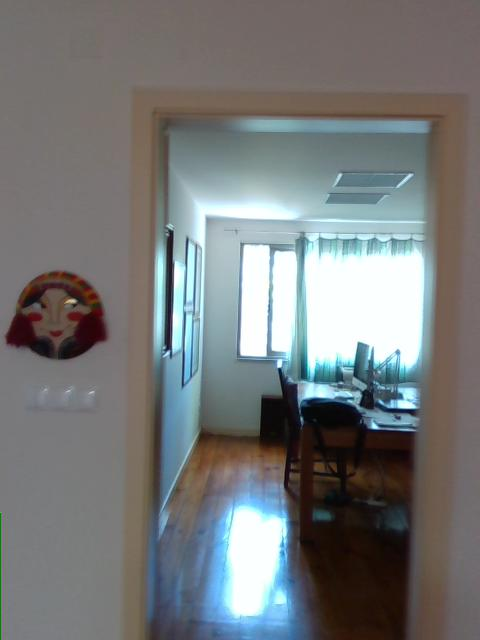open_door: (126, 86, 460, 639)
